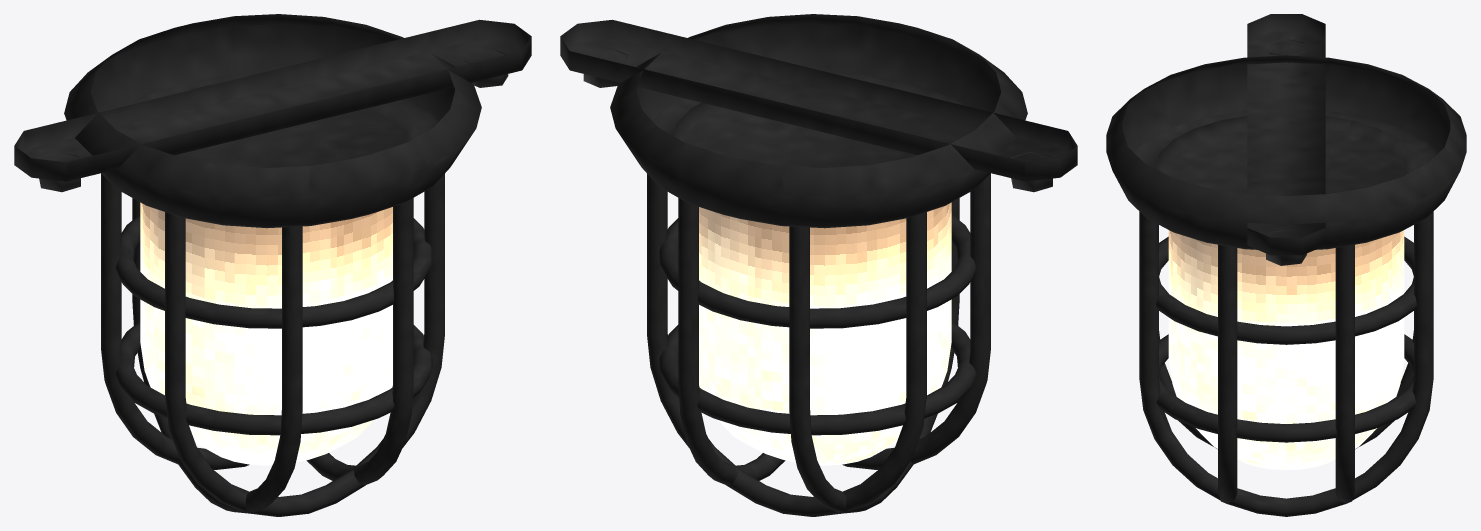
File: lamp_0.fbx
3 renders of one model, left to right at view 1: azimuth 30°, elevation 25°; view 2: azimuth 150°, elevation 25°; view 3: azimuth 270°, elevation 25°, orthographic. The views are drawn at different scales.
Parts seen in each view (by area): view 1: lamp_0; view 2: lamp_0; view 3: lamp_0.
Part boxes in pixels (x1,y1,x2,y2): lamp_0: [14, 14, 531, 516]; lamp_0: [560, 14, 1077, 516]; lamp_0: [1106, 14, 1466, 516].
Size of the model in its own units: 0.27 by 0.1839 by 0.206.
